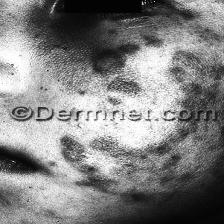Benign Marking or Mole: (57, 136, 196, 201), (165, 51, 224, 108), (105, 77, 140, 103), (92, 48, 126, 74)
